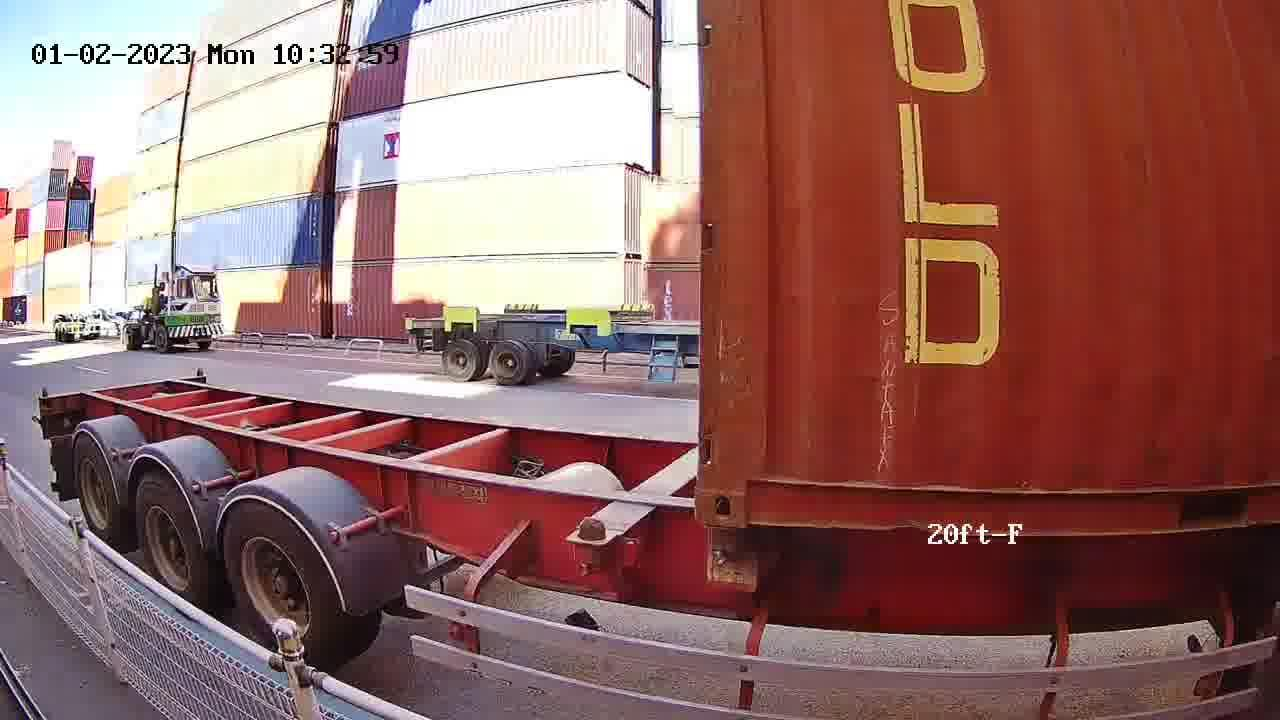Cone: (696, 527, 753, 586)
Hole_L: (694, 441, 798, 528)
Tire: (221, 504, 336, 667), (133, 477, 207, 609), (71, 434, 119, 540)
